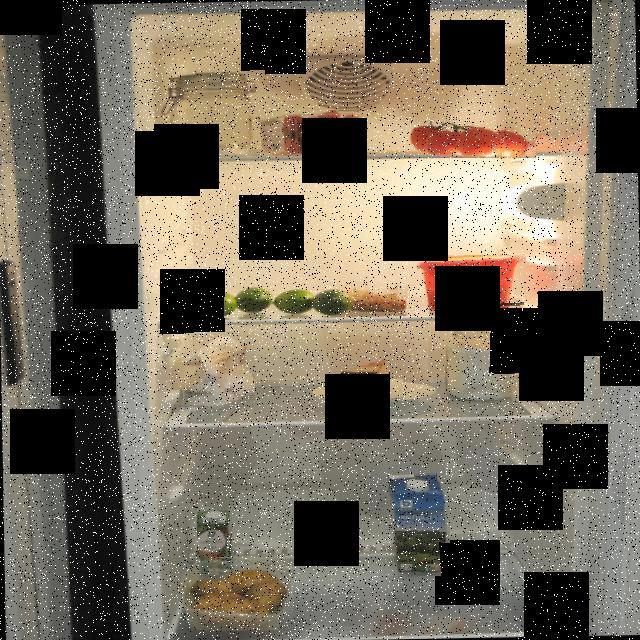butter: (415, 255, 526, 311)
cheese: (325, 359, 404, 404)
flour: (155, 63, 266, 160), (178, 332, 255, 412)
heavy_cream: (198, 509, 234, 574)
lime: (175, 283, 352, 318)
milk: (380, 471, 450, 576)
potato: (186, 554, 294, 630)
shrimp: (344, 284, 411, 312)
strawberries: (260, 110, 366, 156)
sugar: (446, 316, 518, 402)
tomato: (404, 116, 536, 158)
